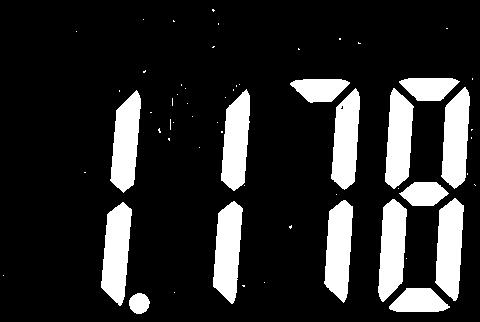1: (95, 90, 141, 307), (210, 88, 253, 306)
7: (290, 76, 361, 306)
8: (374, 73, 473, 312)
dot: (128, 291, 153, 318)
